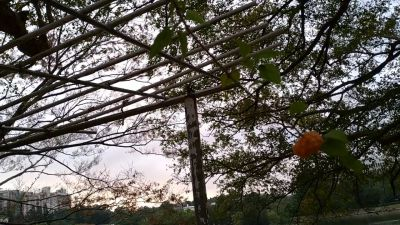eggs: (292, 130, 324, 158)
